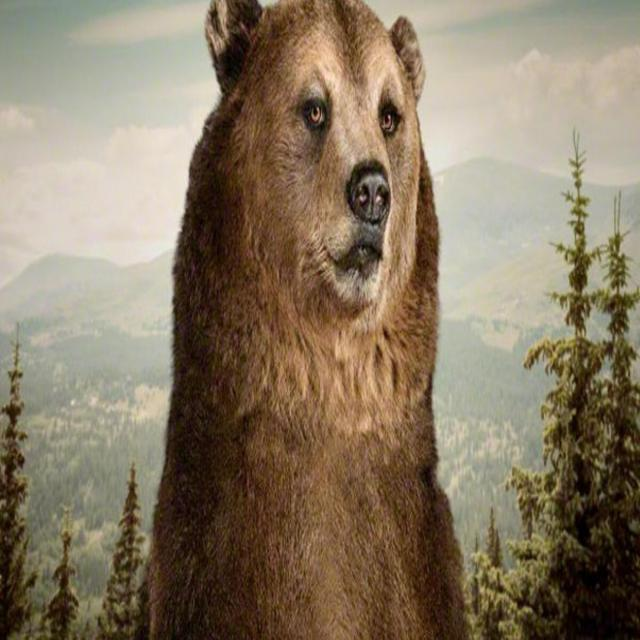Bear: (144, 0, 469, 640)
